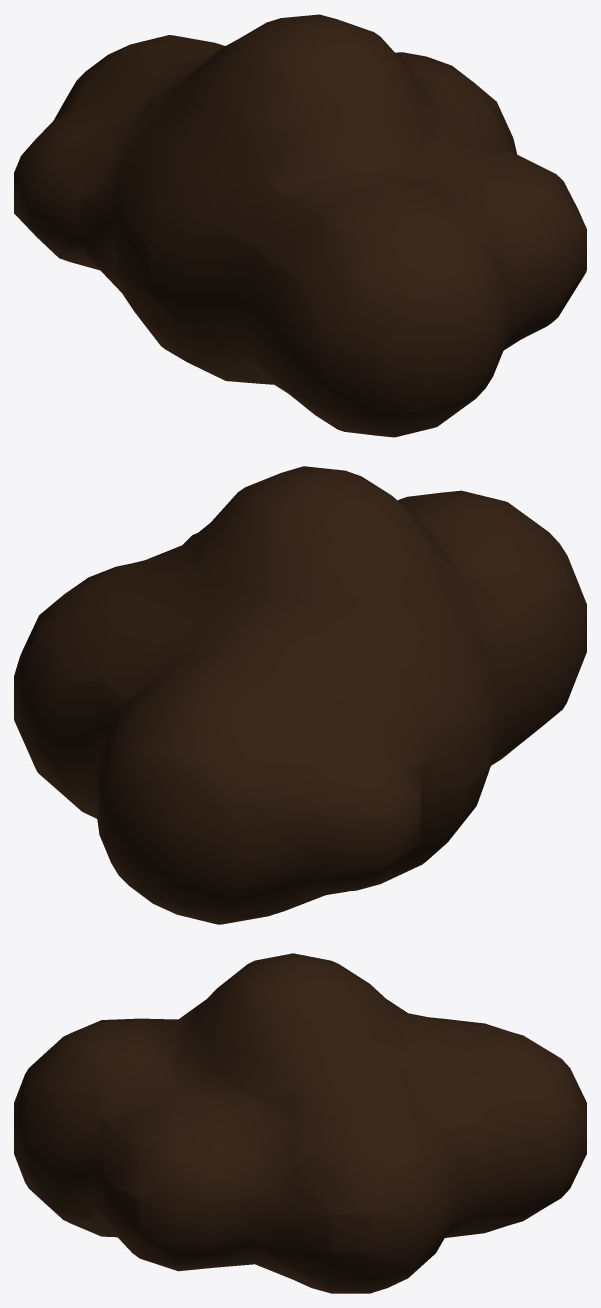
File: soil.fbx
3 views of the same model, one above another, from view 1: azimuth 30°, elevation 25°; view 2: azimuth 150°, elevation 25°; view 3: azimuth 270°, elevation 25° (orthographic). The views are drawn at different scales.
Visible parts, largest first — view 1: 融球.007; view 2: 融球.007; view 3: 融球.007.
Part boxes in pixels (bbox=[...]): 融球.007: bbox=[14, 14, 586, 437]; 融球.007: bbox=[14, 466, 586, 924]; 融球.007: bbox=[14, 953, 586, 1293].
Size of the model in its own units: 1173 by 840 by 680.
